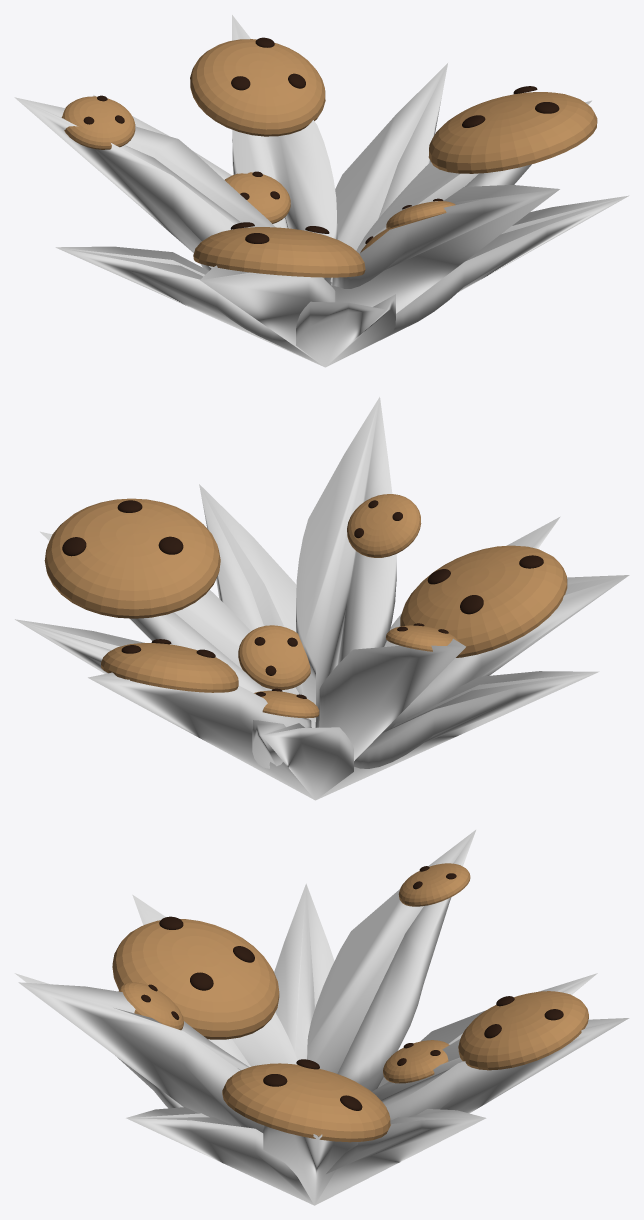
File: CookieTree.fbx
The picture shows the model from 3 angles, top to bottom: view 1: azimuth 30°, elevation 25°; view 2: azimuth 150°, elevation 25°; view 3: azimuth 270°, elevation 25°; orthographic projection. The views are drawn at different scales.
Parts seen in each view (by area): view 1: Cube, Sphere.002, Sphere.001, Sphere.003, Sphere.004, Sphere.006, Sphere.005; view 2: Cube, Sphere.001, Sphere.003, Sphere.002, Sphere.005, Sphere.007, Sphere.004, Sphere.006; view 3: Cube, Sphere.003, Sphere.001, Sphere.002, Sphere.004, Sphere.006, Sphere.005.
Boxes of the visible parts, x1,y1,x2,y2 form: Cube: (14,15,629,367); Sphere.002: (190,37,325,136); Sphere.001: (428,86,597,173); Sphere.003: (193,222,365,277); Sphere.004: (61,95,135,149); Sphere.006: (225,171,290,223); Sphere.005: (386,198,455,229); Cube: (15,397,629,800); Sphere.001: (44,498,220,618); Sphere.003: (400,545,567,657); Sphere.002: (101,639,238,692); Sphere.005: (347,494,421,557); Sphere.007: (238,625,310,689); Sphere.004: (386,623,459,651); Sphere.006: (254,688,319,718); Cube: (14,830,629,1205); Sphere.003: (112,916,279,1039); Sphere.001: (222,1059,390,1142); Sphere.002: (458,991,588,1070); Sphere.004: (398,863,470,906); Sphere.006: (383,1040,449,1083); Sphere.005: (118,982,183,1030).
Size of the model in its own units: 280 by 133 by 284.
